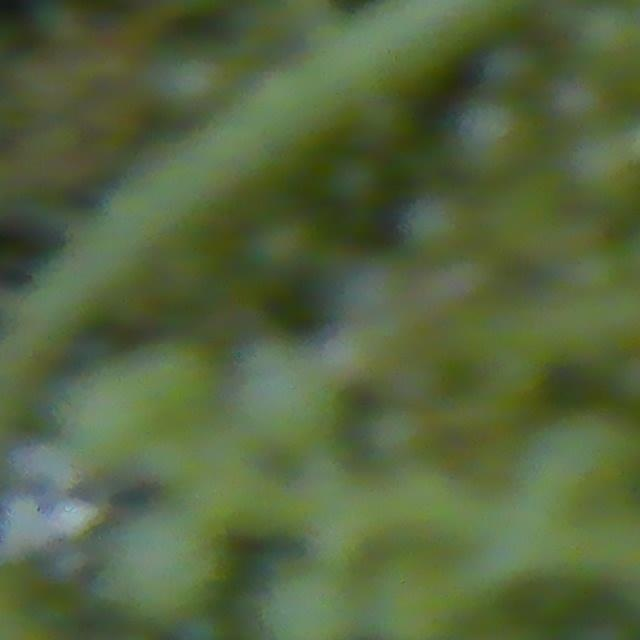SeaGrape: (96, 505, 222, 627), (226, 341, 341, 457), (362, 548, 465, 640), (450, 92, 542, 182), (257, 564, 364, 640), (400, 187, 479, 262), (565, 0, 640, 73), (545, 67, 610, 130), (321, 151, 386, 212), (481, 39, 543, 95)
